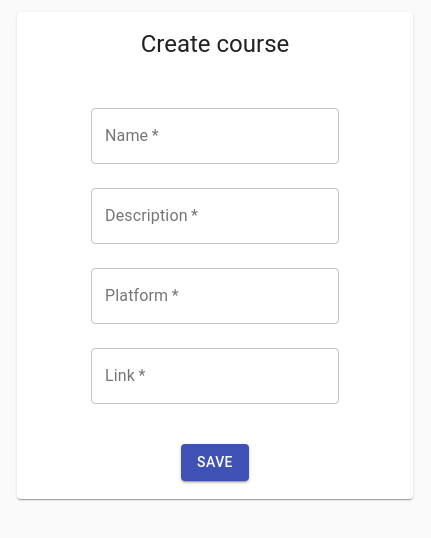
it: Course test › When creating a course › should register a course with invalid empty description show error
expect the text "Create course" is shown: met, box [141,28,289,60]
In the field with id "course-name": {"x": 215, "y": 136} [91,108,339,164], type "Matematica"
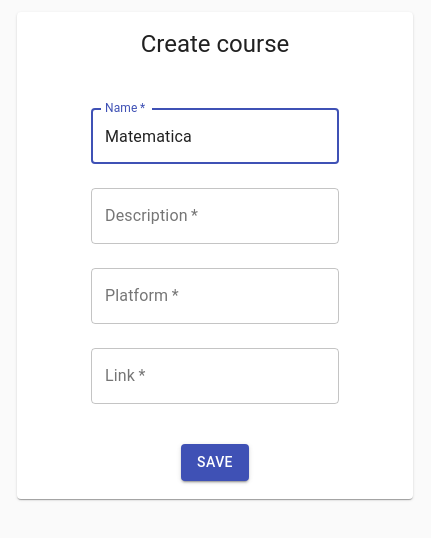
In the field with id "course-platform": {"x": 215, "y": 296} [91,268,339,324], type "Udemy"
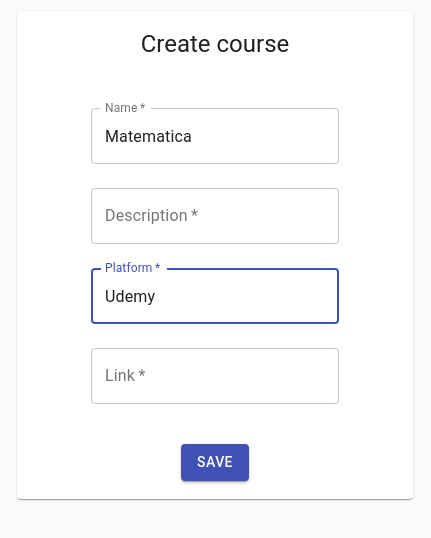
In the field with id "course-link": {"x": 215, "y": 376} [91,348,339,404], type "www.link.com"
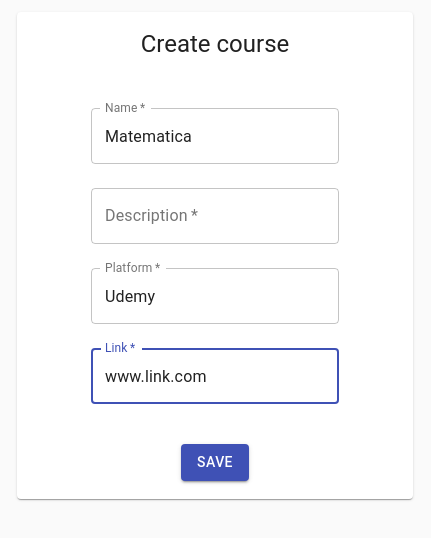
Click the button with id "submit-button": {"x": 215, "y": 463} [181,444,249,481]
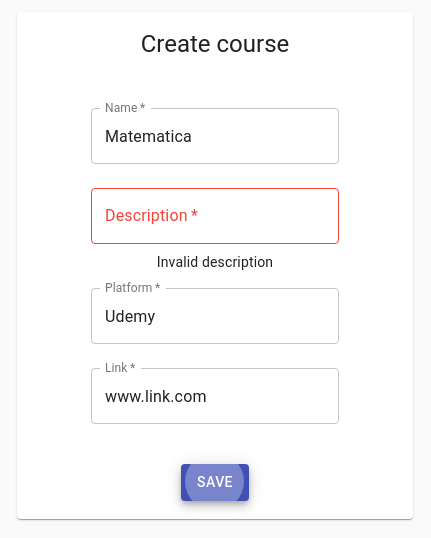
expect the text "Create course" is shown: met, box [141,28,289,60]
expect the text "Invalid description" is shown: met, box [157,254,273,270]
